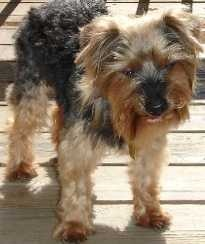dog: (5, 5, 199, 201)
